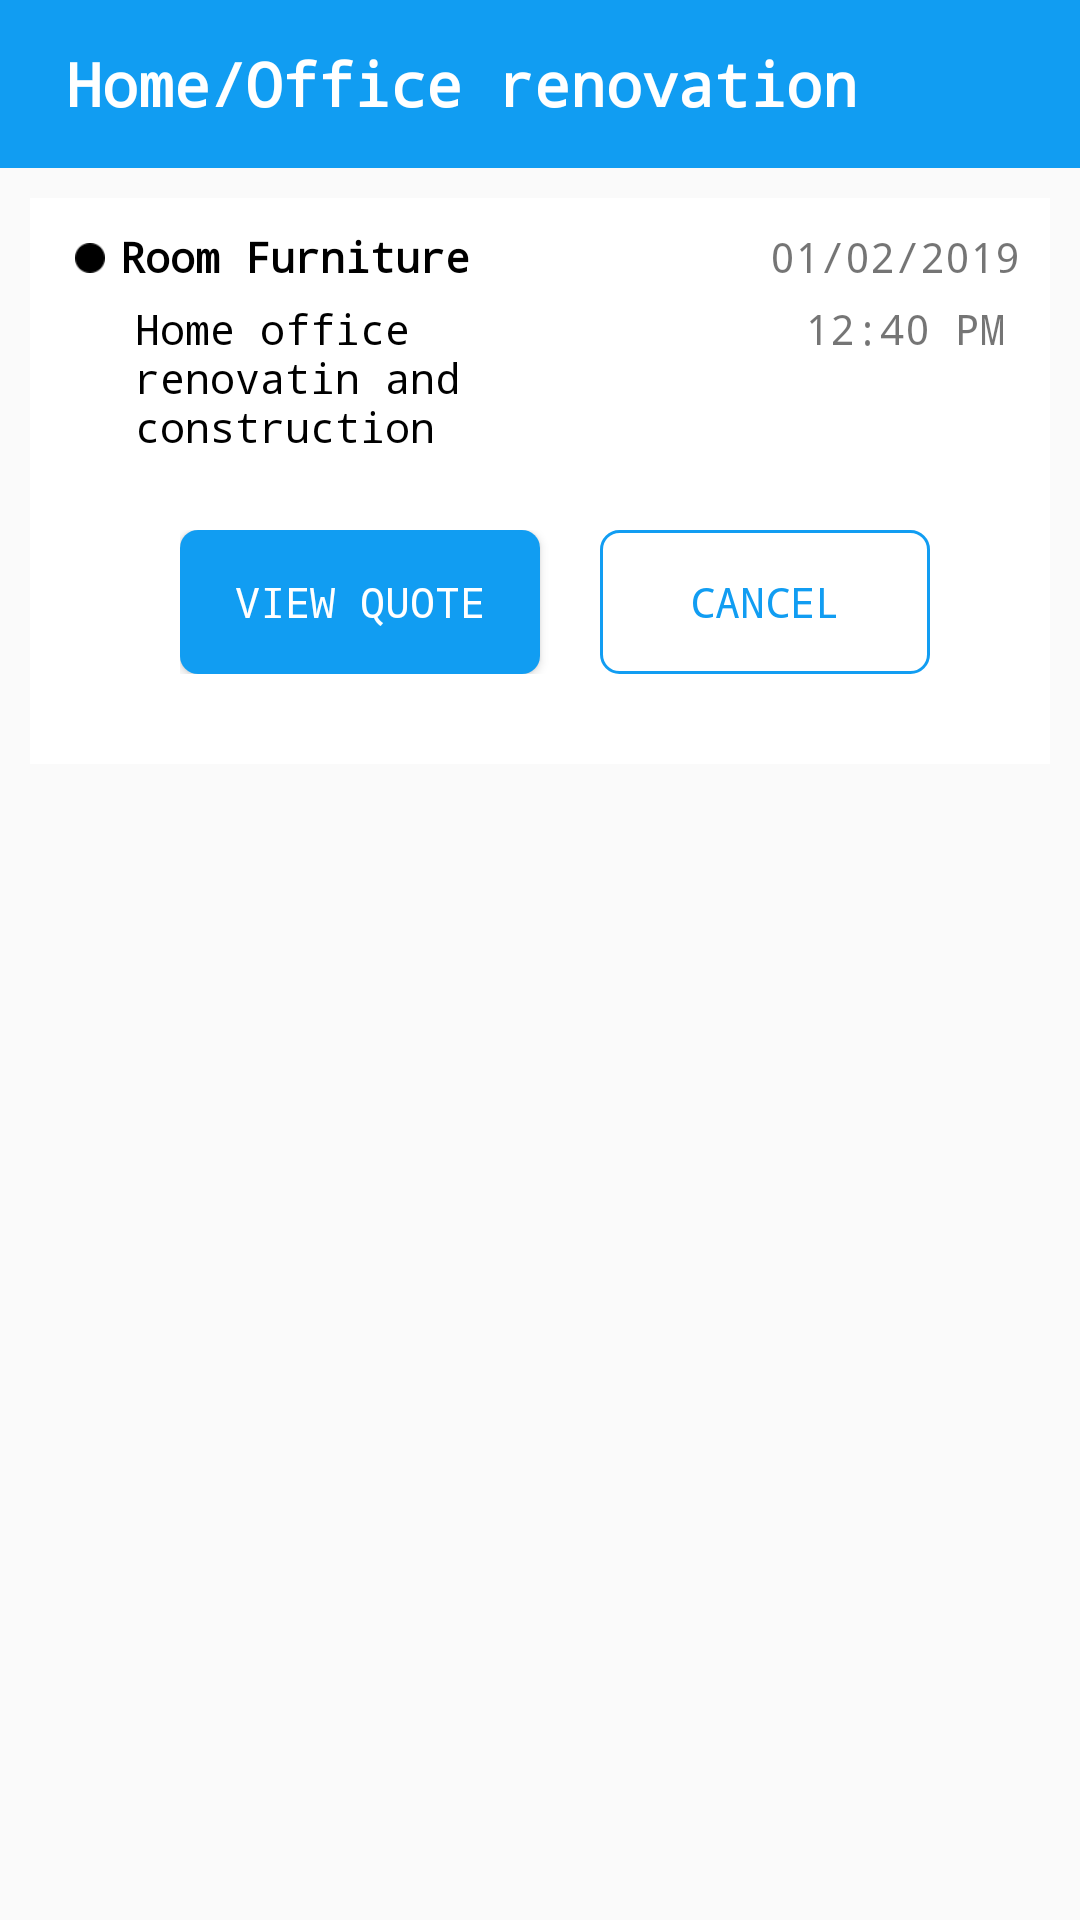

Icon click points for this 1080 × 1920 phone screenshot, format (x,y):
bullet: (90,258)
